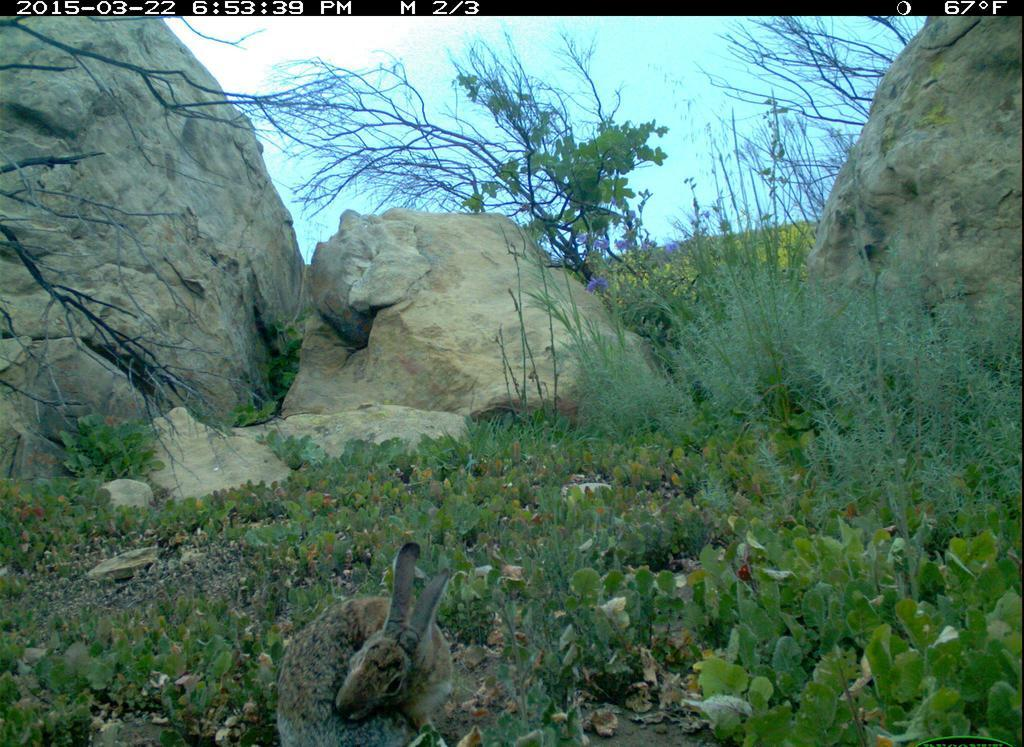rabbit: (263, 530, 505, 745)
